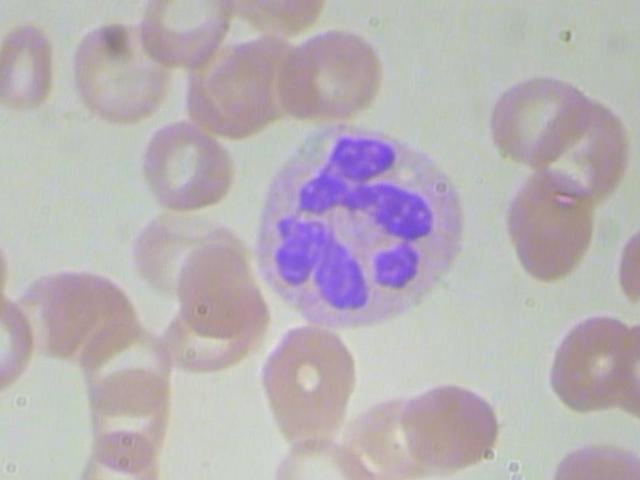RBC: (488, 161, 612, 296), (243, 312, 366, 448), (473, 54, 596, 173), (130, 110, 250, 221), (273, 18, 393, 129), (397, 375, 511, 479), (166, 232, 272, 341), (356, 381, 471, 480), (537, 303, 630, 418), (126, 0, 247, 80), (499, 0, 621, 11)
WBC: (55, 11, 182, 136)
